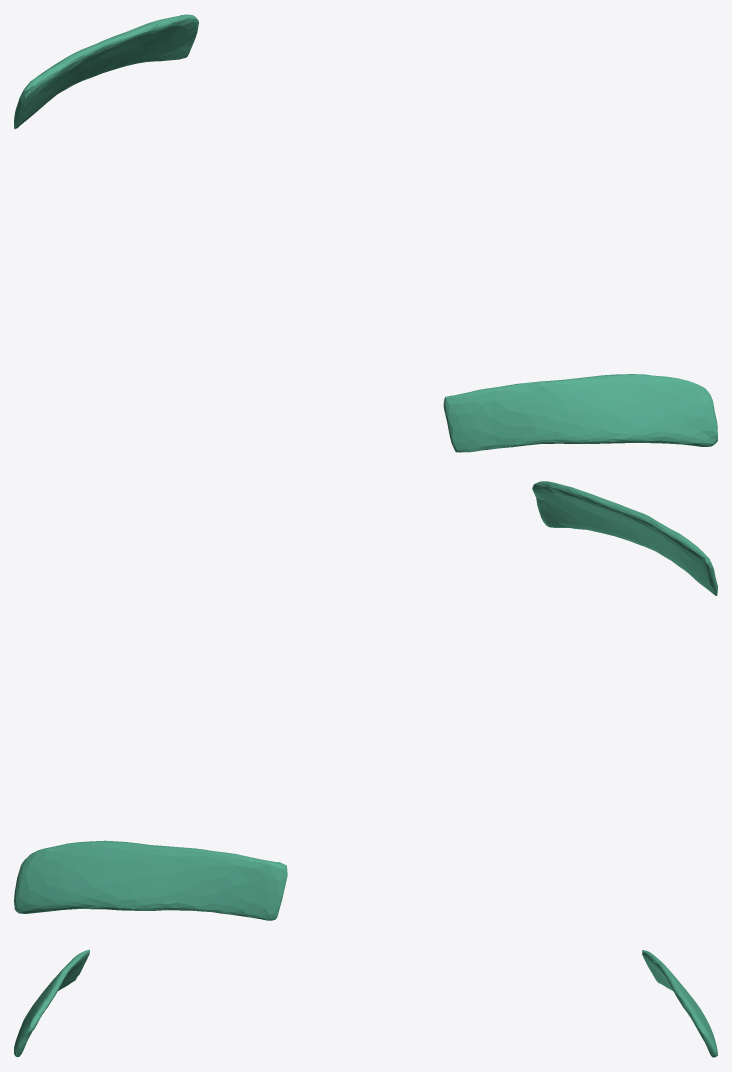
The picture shows the model from 3 angles, top to bottom: view 1: azimuth 30°, elevation 25°; view 2: azimuth 150°, elevation 25°; view 3: azimuth 270°, elevation 25°; orthographic projection. The views are drawn at different scales.
Visible parts, largest first — view 1: 120.obj; view 2: 120.obj; view 3: 120.obj.
Boxes of the visible parts, left/top/right/bottom form: 120.obj: left=14, top=14, right=717, bottom=452; 120.obj: left=14, top=481, right=717, bottom=920; 120.obj: left=14, top=949, right=717, bottom=1057.
Size of the model in its own units: 2390 by 713 by 9912.
